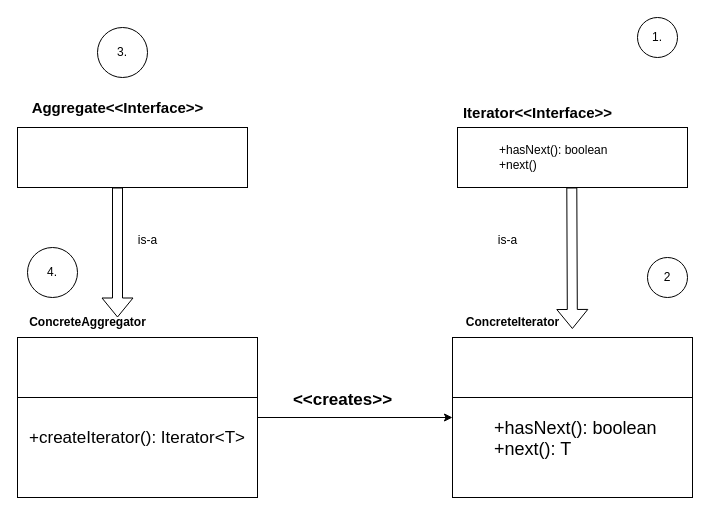
The diagram is 710 pixels wide and 515 high, and some of its shapes have lost their labels. Each missing label, with the centre of its shape:
"+ createIterator(): Iterator<T>" goes at pixel 132 157.
"- item : List<T>" goes at pixel 137 367.
"collection: Collection<T> position: int" goes at pixel 572 367.
